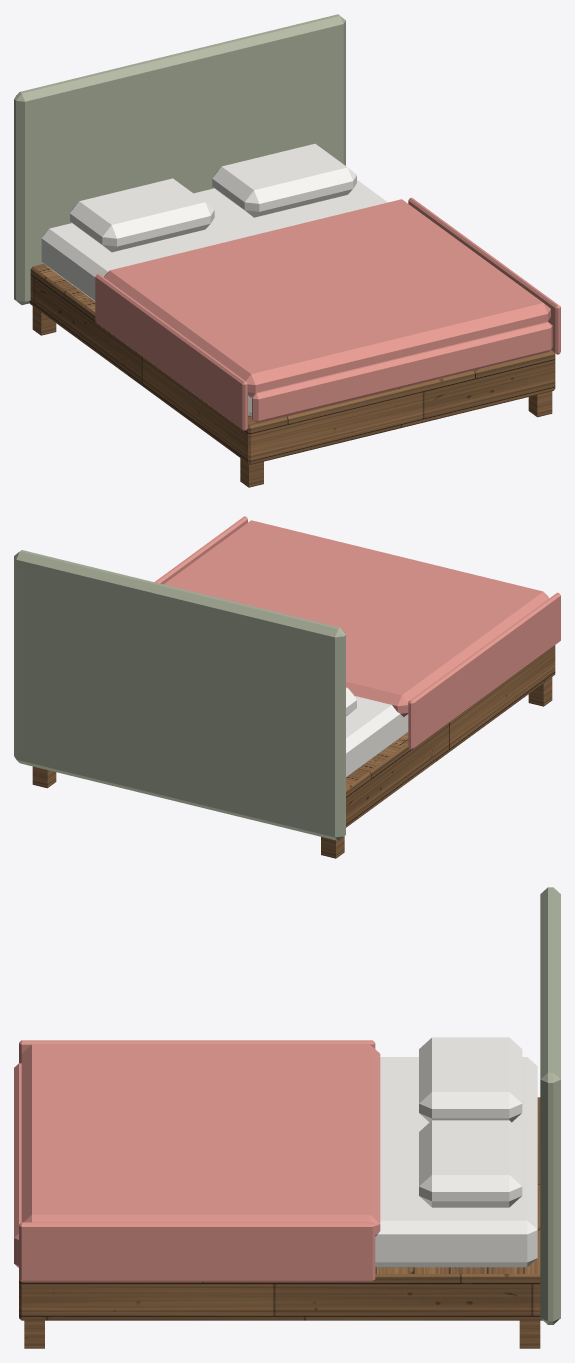
The model's file is bed_b.glb.
3 renders of one model, top to bottom at view 1: azimuth 30°, elevation 25°; view 2: azimuth 150°, elevation 25°; view 3: azimuth 270°, elevation 25°, orthographic. The views are drawn at different scales.
Visible parts, largest first — view 1: bed_b_cloth_r, bed_b_fabric2, bed_b_bed_w, bed_b_timber; view 2: bed_b_fabric2, bed_b_cloth_r, bed_b_timber, bed_b_bed_w; view 3: bed_b_cloth_r, bed_b_bed_w, bed_b_timber, bed_b_fabric2.
Part boxes in pixels (box(x1,y1,x2,y2)): bed_b_cloth_r: box(95, 197, 560, 430); bed_b_fabric2: box(14, 14, 345, 304); bed_b_bed_w: box(41, 143, 387, 415); bed_b_timber: box(29, 264, 555, 487); bed_b_fabric2: box(14, 550, 345, 840); bed_b_cloth_r: box(154, 516, 560, 749); bed_b_timber: box(32, 645, 555, 858); bed_b_bed_w: box(346, 687, 408, 777); bed_b_cloth_r: box(14, 1040, 380, 1281); bed_b_bed_w: box(375, 1037, 537, 1267); bed_b_timber: box(19, 1097, 542, 1348); bed_b_fabric2: box(540, 887, 560, 1324).
Bounding box in the file's own units: 1.76 × 1.2 × 2.12.
Materials: 4 (1 with a texture image).
